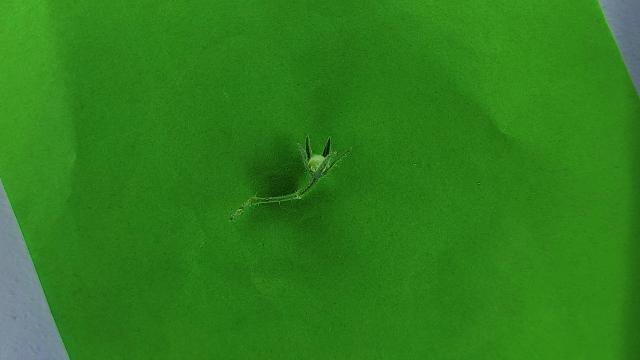Fruit Bud: (299, 135, 334, 178)
